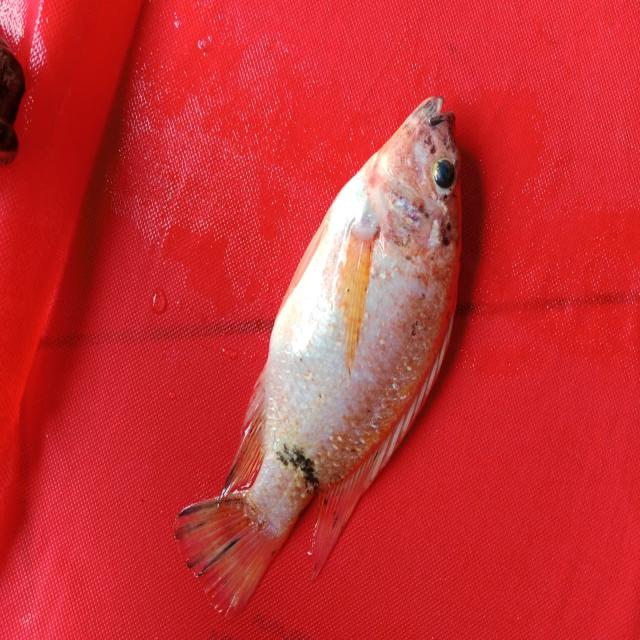ikan: (162, 64, 489, 627)
